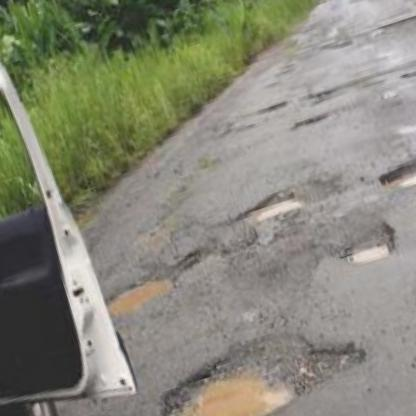pothole: (144, 301, 378, 416), (97, 258, 186, 320), (337, 218, 405, 273), (237, 184, 307, 230), (376, 143, 416, 197), (286, 105, 333, 135)
